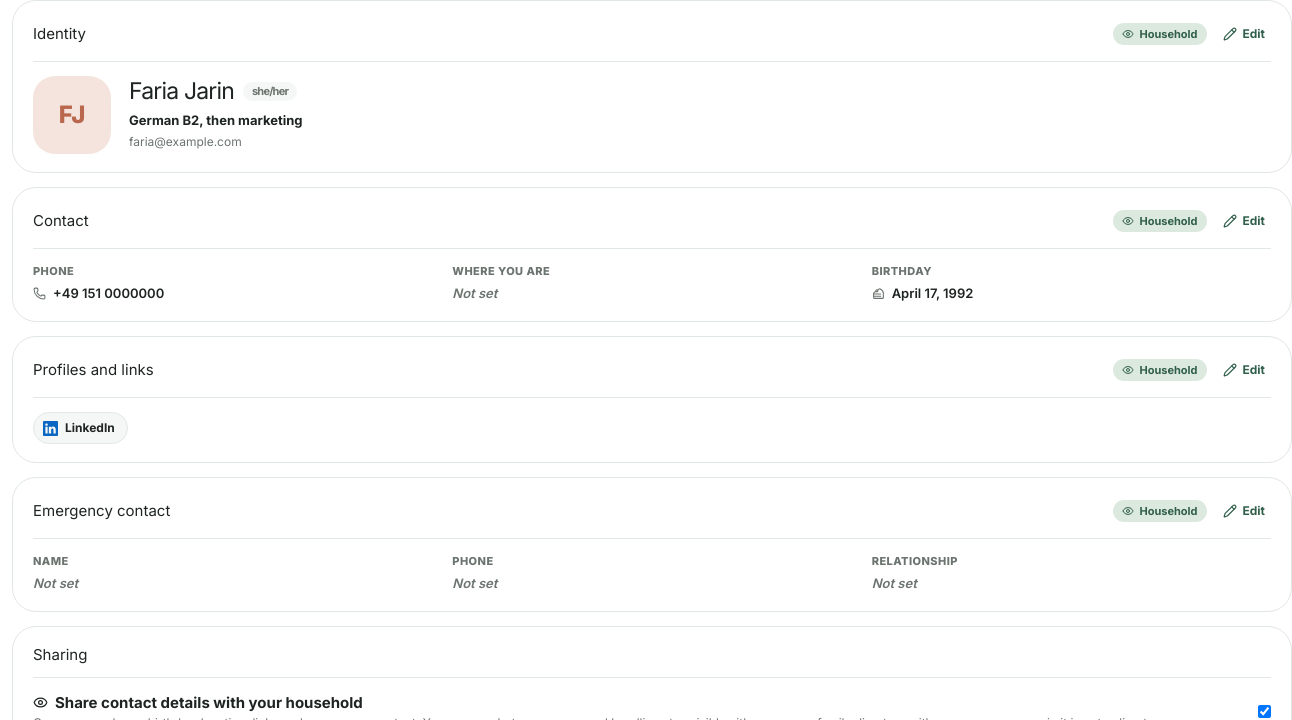
Test: ProfileSettings › rejects a birthday in the future before it reaches the column
Expected: the heading "Faria Jarin she/her" is shown, [129,78,303,106]
Click the button with aria-label "Edit contact".
click(1244, 221)  # box [1216,206,1271,236]
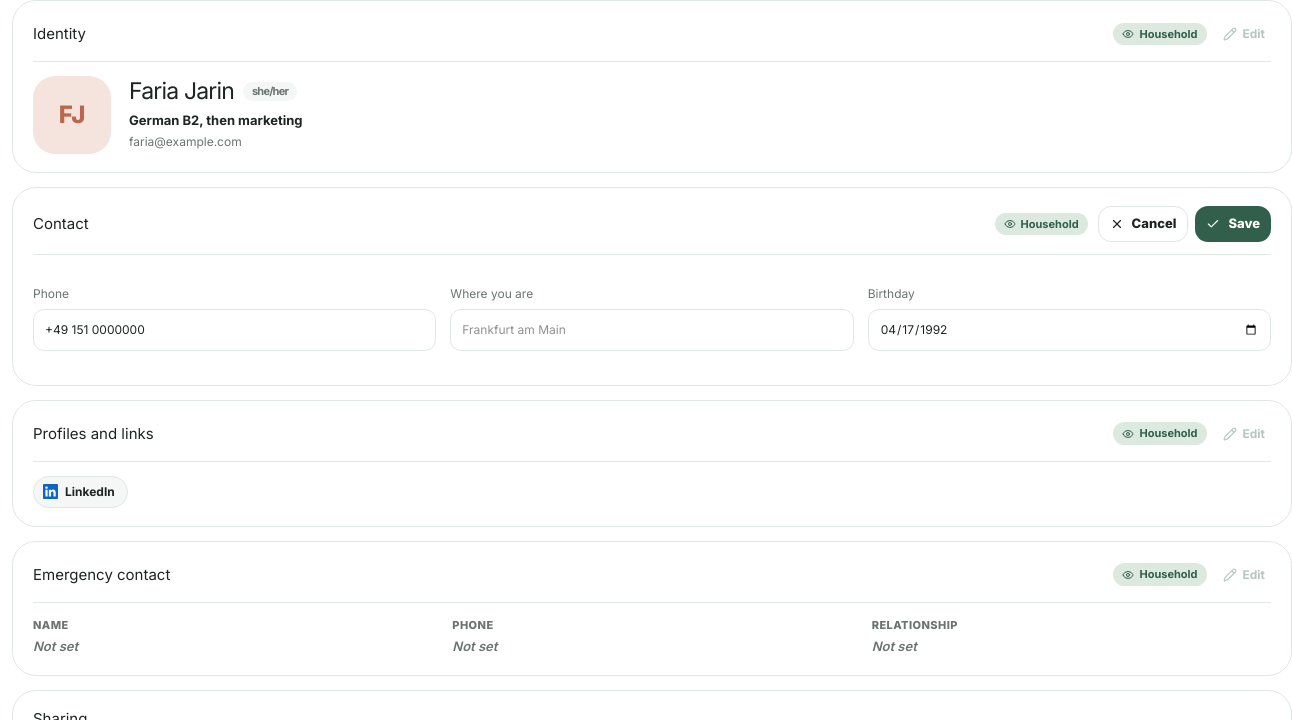
Type "2099-01-01" into the date field labelled "Birthday".
click(1069, 330); type("2099-01-01")  # box [868,308,1271,350]
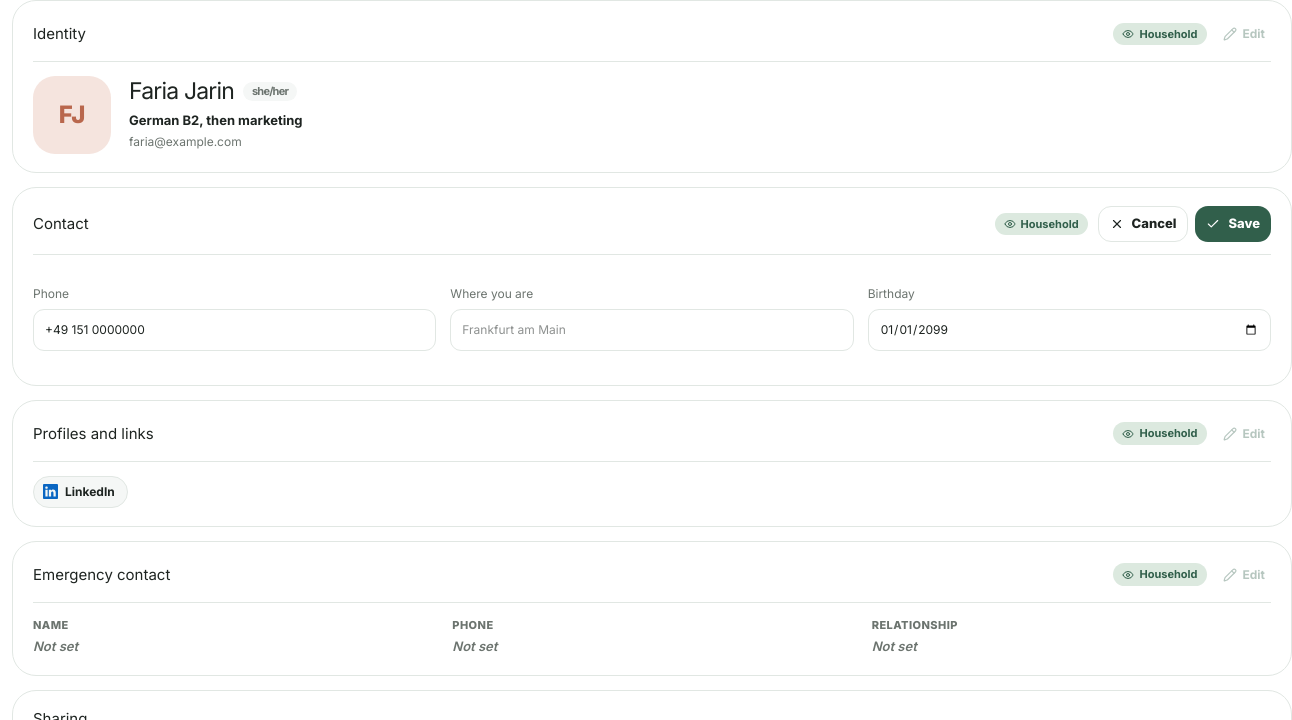
Click the button "Save".
click(1233, 224)  # box [1195,206,1271,242]
(page scrolled)
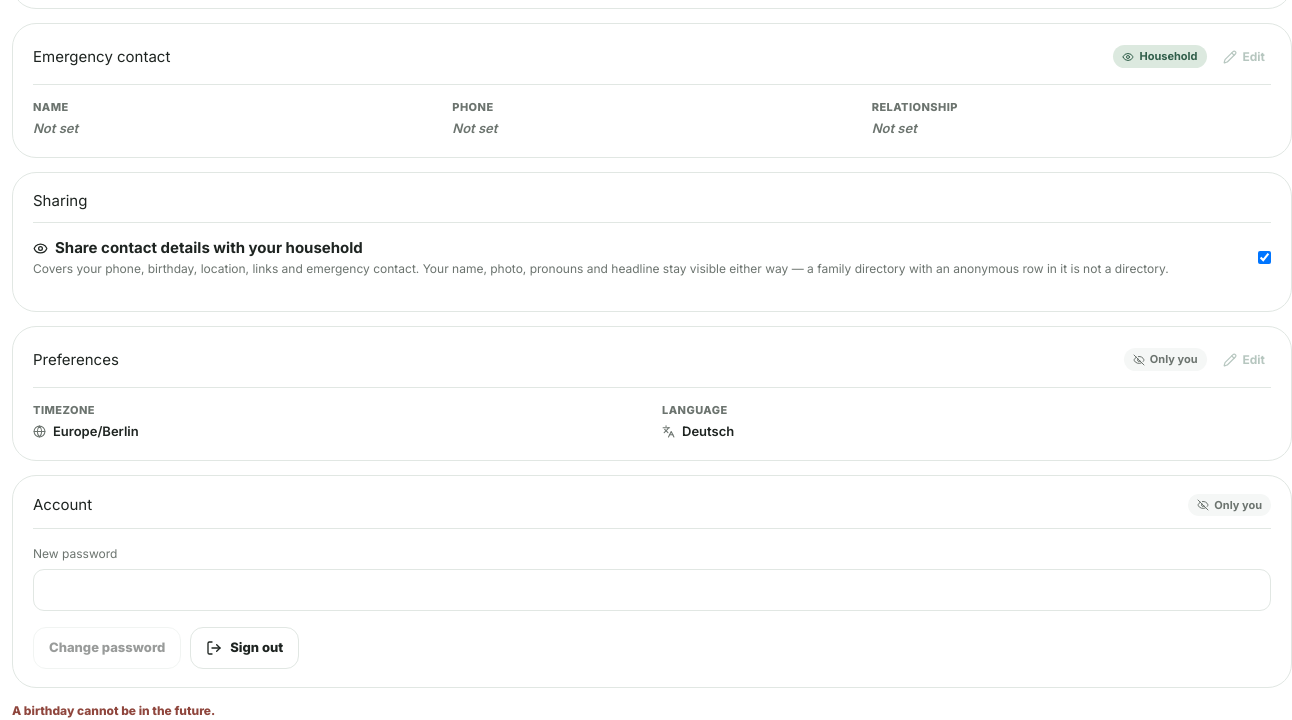
Expected: the message reads "A birthday cannot be in the future.", [12,703,215,718]
